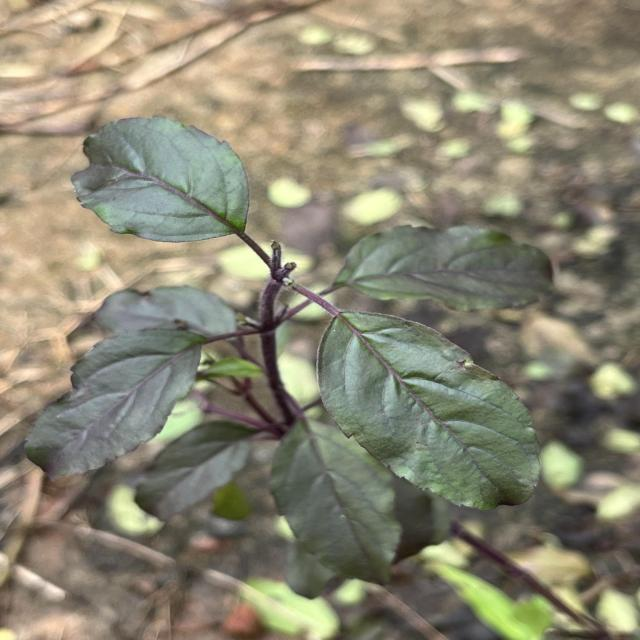Ocimum tenuiflorum: (314, 308, 545, 512), (22, 328, 206, 491), (70, 115, 252, 246), (331, 220, 560, 314)
